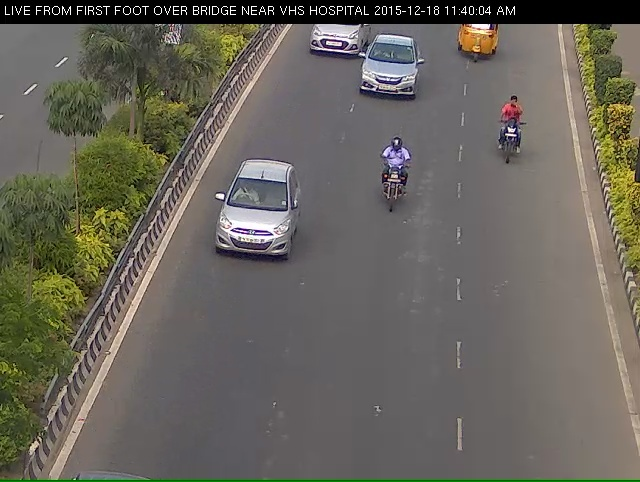Auto: (456, 21, 503, 73)
Car: (208, 172, 295, 286), (355, 43, 425, 117), (293, 18, 366, 68)
Person: (495, 100, 528, 190), (376, 151, 410, 234)
